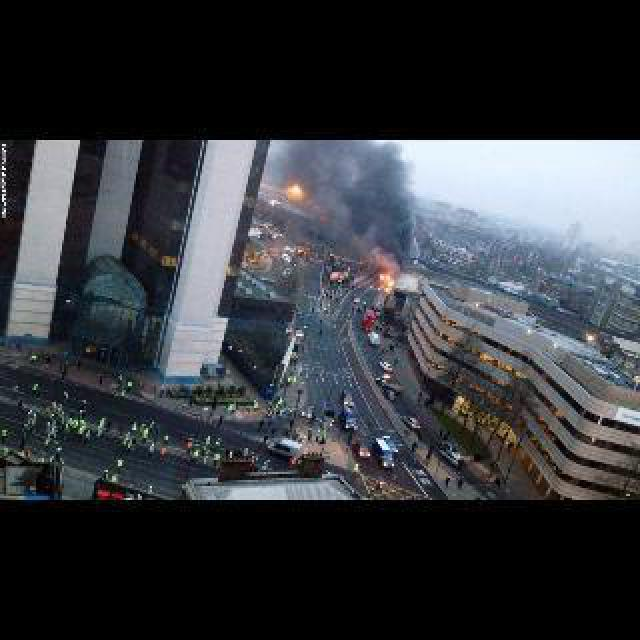fire: (376, 268, 398, 292), (282, 178, 308, 198)
smoke: (319, 140, 421, 268)
